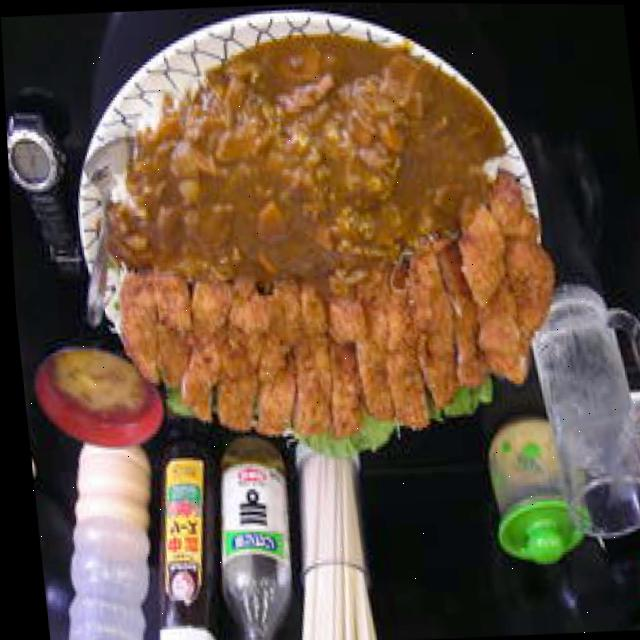猪肉菜式: (47, 0, 572, 472)
